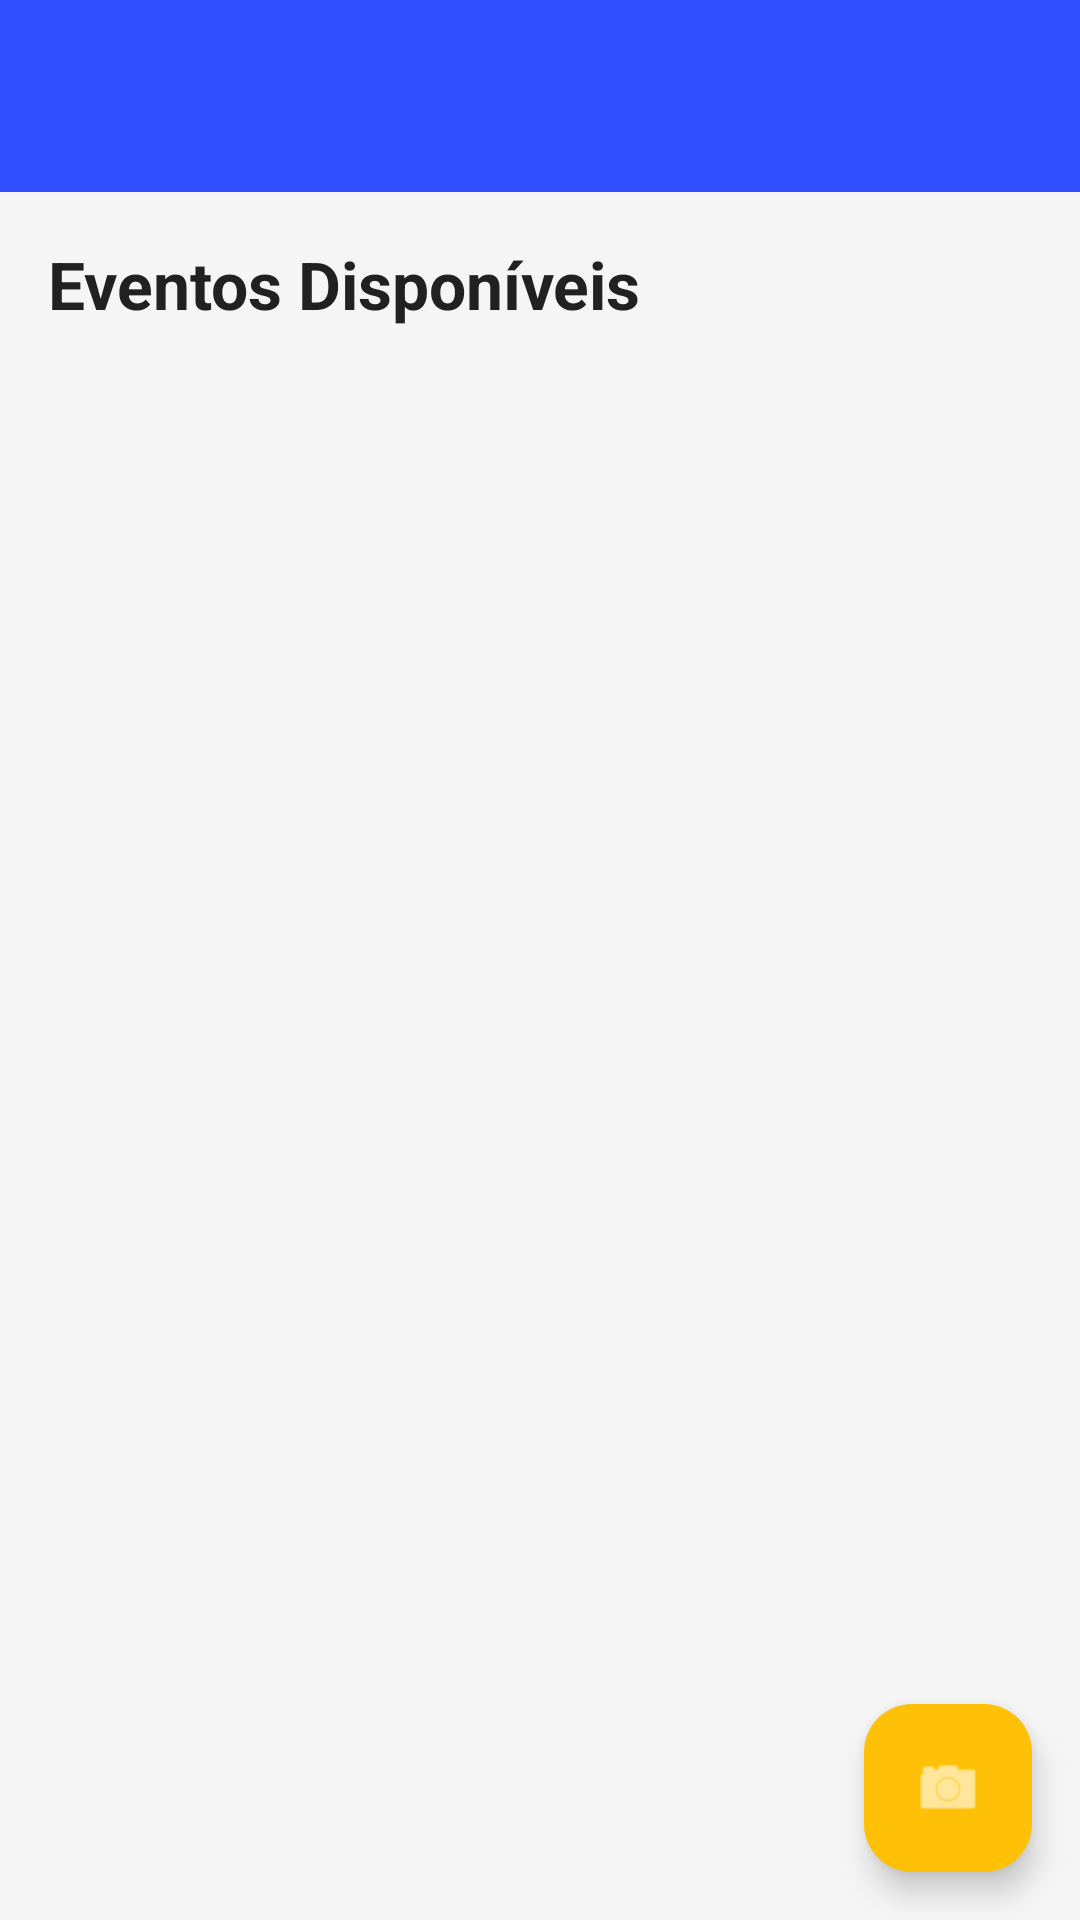

Where icons sit on this 1080w x 1920h app screen, as (x1, y1, x2, y2):
camera: (864, 1704, 1032, 1872)
